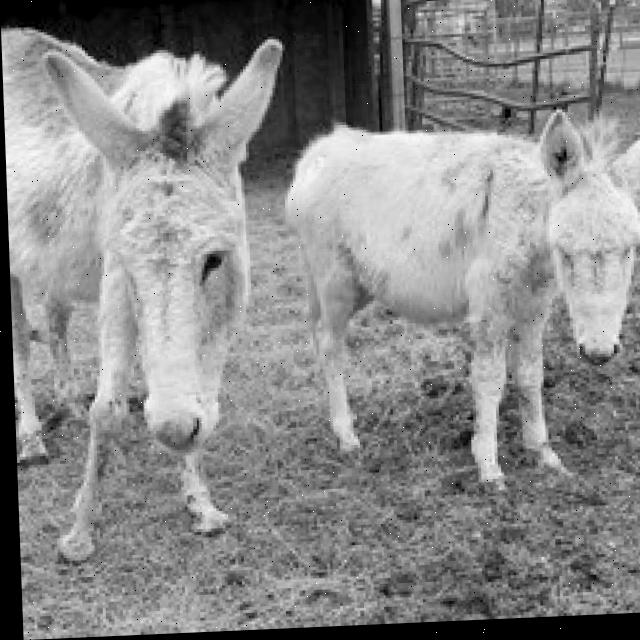Donkey: (1, 10, 301, 568), (279, 100, 640, 499)
